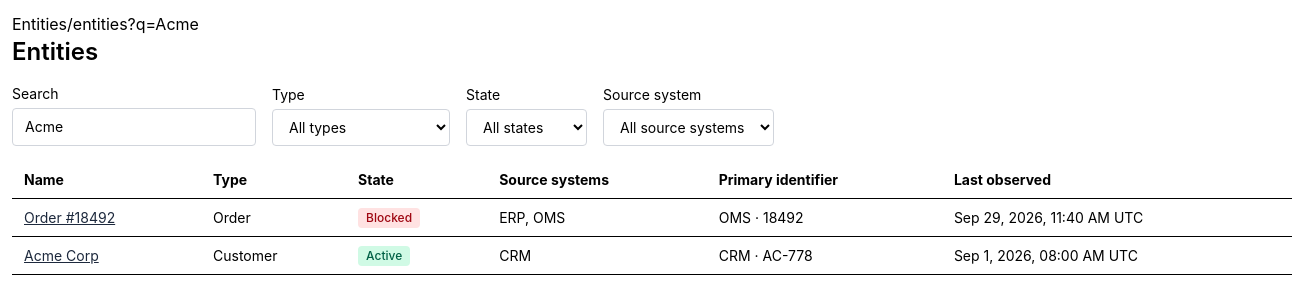
it: EntityListPage › does not restore an old search after the URL is cleared from outside
Expected: the link "Order #18492" is shown, [24,208,115,226]
Click the link "Entities": click(40, 24) [12,14,67,34]
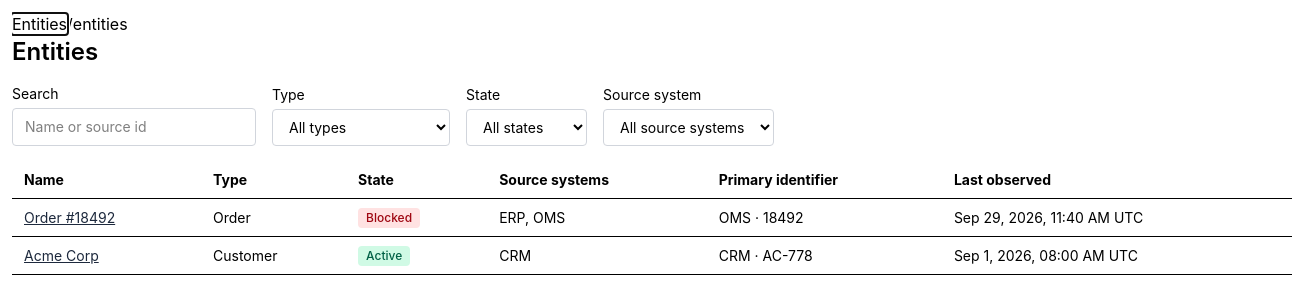
Now the search field labelled "Search" is empty, box [12,108,256,146]
Now the text with test id "location" reads "/entities", box [67,14,128,34]
